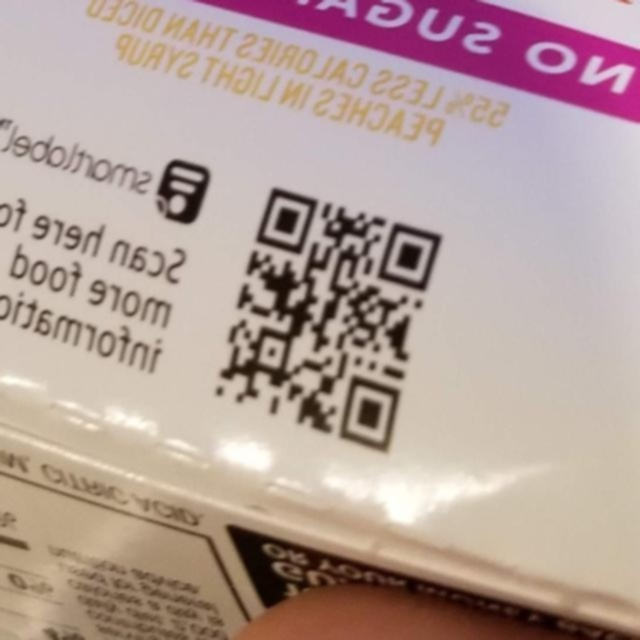qr-code: (201, 172, 456, 464)
